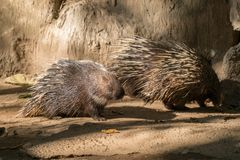porcupine: (119, 37, 227, 120), (16, 54, 126, 125)
